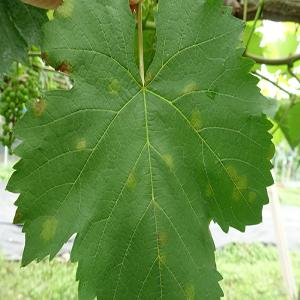Folha: (4, 0, 275, 298)
Fungo: (0, 72, 41, 154), (20, 0, 64, 10), (128, 0, 144, 21), (54, 59, 74, 75), (157, 228, 169, 250), (107, 75, 120, 95), (33, 96, 45, 115)
